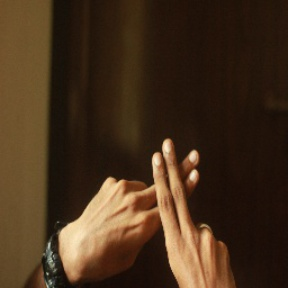F: (124, 131, 212, 244)
